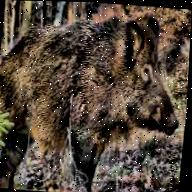boar: (0, 8, 187, 192)
